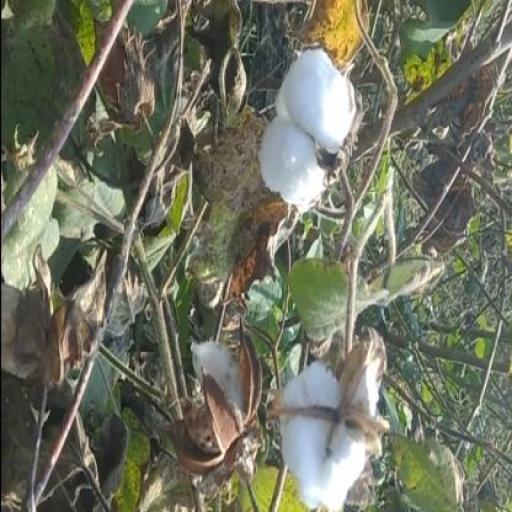cotton_ready: (266, 322, 408, 509), (236, 62, 371, 228)
